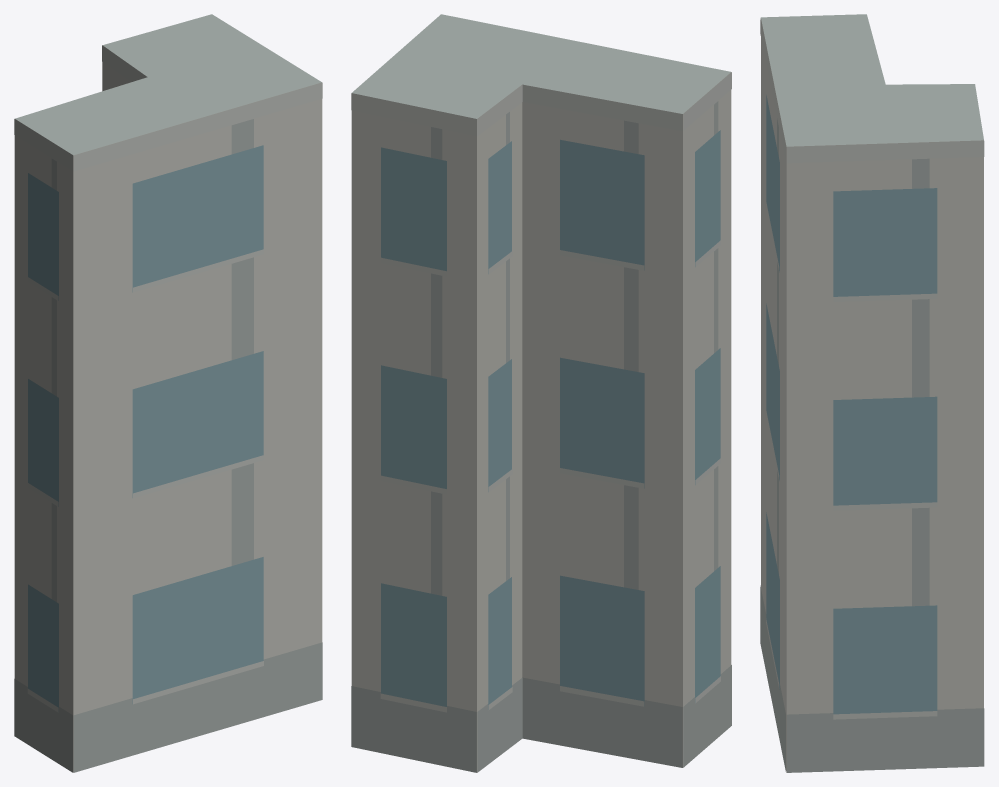
The model's file is survey-upis-32633664.glb.
The picture shows the model from 3 angles, left to right: view 1: azimuth 30°, elevation 25°; view 2: azimuth 150°, elevation 25°; view 3: azimuth 270°, elevation 25°; orthographic projection. The views are drawn at different scales.
Parts seen in each view (by area): view 1: survey-upis-32633664.tmp; view 2: survey-upis-32633664.tmp; view 3: survey-upis-32633664.tmp.
Part boxes in pixels (x1,y1,x2,y2): survey-upis-32633664.tmp: [14, 14, 322, 772]; survey-upis-32633664.tmp: [351, 14, 731, 772]; survey-upis-32633664.tmp: [760, 14, 984, 772].
Bounding box in the file's own units: 4.17 × 9.15 × 2.97.
